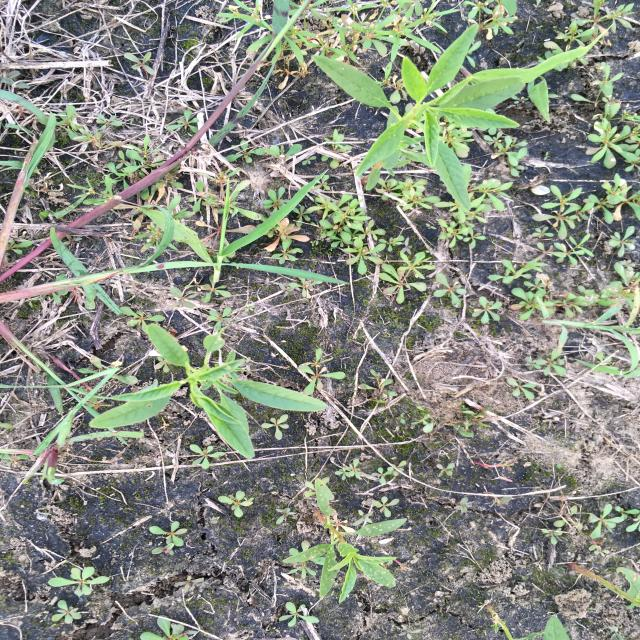Carpetweed: (267, 188, 434, 300), (432, 262, 638, 316), (533, 178, 639, 270), (563, 63, 639, 175), (439, 181, 520, 251), (541, 502, 637, 556), (502, 350, 573, 404), (377, 176, 444, 219), (296, 344, 350, 397), (146, 514, 190, 561), (44, 568, 112, 598), (47, 598, 87, 629), (216, 490, 257, 518)
Waterhemp: (309, 23, 529, 216), (86, 323, 329, 459), (280, 475, 409, 605)
